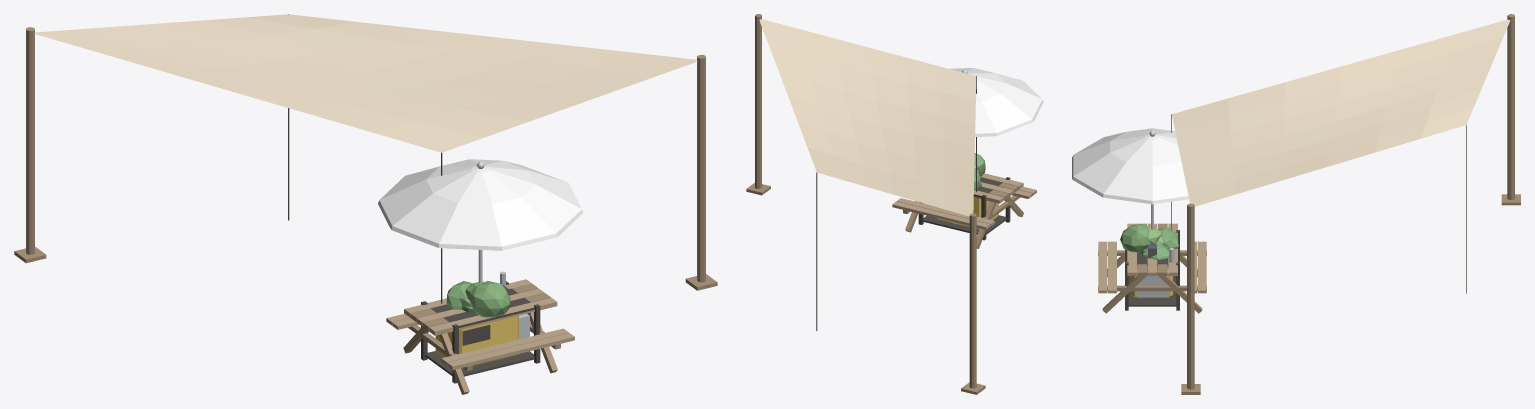
Rendered from cart_pod.glb.
3 renders of one model, left to right at view 1: azimuth 30°, elevation 25°; view 2: azimuth 150°, elevation 25°; view 3: azimuth 270°, elevation 25°, orthographic. The views are drawn at different scales.
Parts seen in each view (by area): view 1: cp_sail_mesh, cp_umbrella_paint_mesh, cp_table_mesh, cp_generator_mesh, cp_planter_mesh; view 2: cp_sail_mesh, cp_umbrella_paint_mesh, cp_table_mesh, cp_generator_mesh, cp_planter_mesh; view 3: cp_sail_mesh, cp_umbrella_paint_mesh, cp_table_mesh, cp_generator_mesh, cp_planter_mesh.
Boxes of the visible parts, x1,y1,x2,y2 form: cp_sail_mesh: (14, 14, 717, 303); cp_umbrella_paint_mesh: (378, 159, 583, 250); cp_table_mesh: (386, 250, 574, 394); cp_generator_mesh: (421, 271, 540, 383); cp_planter_mesh: (446, 281, 510, 363); cp_sail_mesh: (746, 14, 985, 394); cp_umbrella_paint_mesh: (950, 68, 1043, 136); cp_table_mesh: (892, 173, 1036, 248); cp_generator_mesh: (918, 173, 1010, 240); cp_planter_mesh: (952, 153, 985, 225); cp_sail_mesh: (1171, 14, 1520, 394); cp_umbrella_paint_mesh: (1072, 128, 1188, 204); cp_table_mesh: (1098, 204, 1206, 313); cp_generator_mesh: (1125, 230, 1179, 310); cp_planter_mesh: (1120, 224, 1178, 266).
Bounding box in the file's own units: 7.3 × 3.23 × 7.01.
